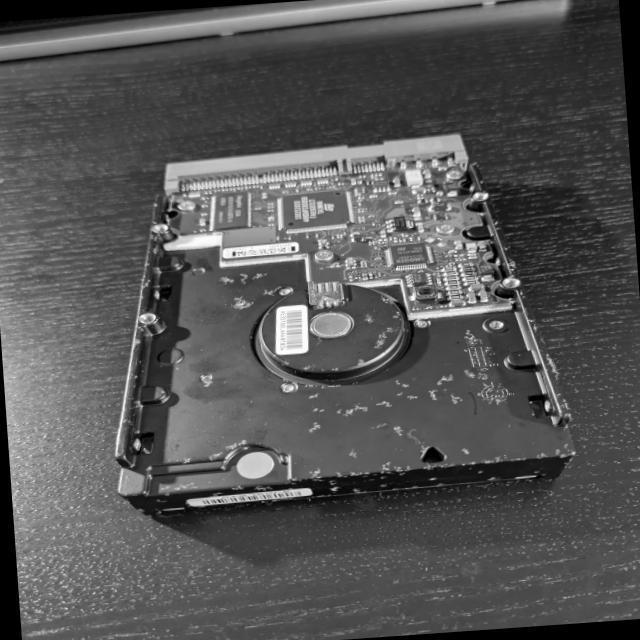DISK: (94, 126, 580, 520)
